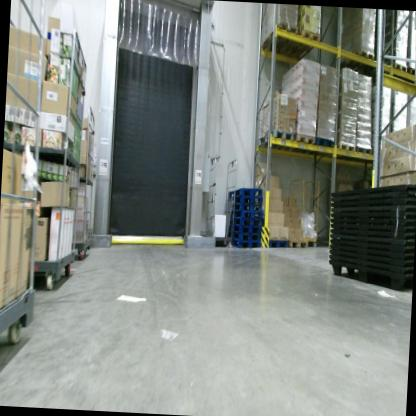pallet: (258, 17, 300, 61), (279, 24, 321, 65), (331, 44, 380, 79), (256, 125, 295, 152), (307, 135, 336, 159), (289, 130, 316, 155), (224, 237, 262, 253), (227, 193, 265, 208), (377, 58, 407, 77), (223, 215, 264, 228), (223, 207, 263, 220), (223, 231, 262, 244), (223, 222, 262, 235), (227, 186, 264, 199), (287, 234, 310, 253), (227, 202, 264, 213), (337, 137, 357, 157), (265, 234, 287, 250), (352, 142, 371, 159), (406, 63, 416, 76), (412, 70, 416, 89)
